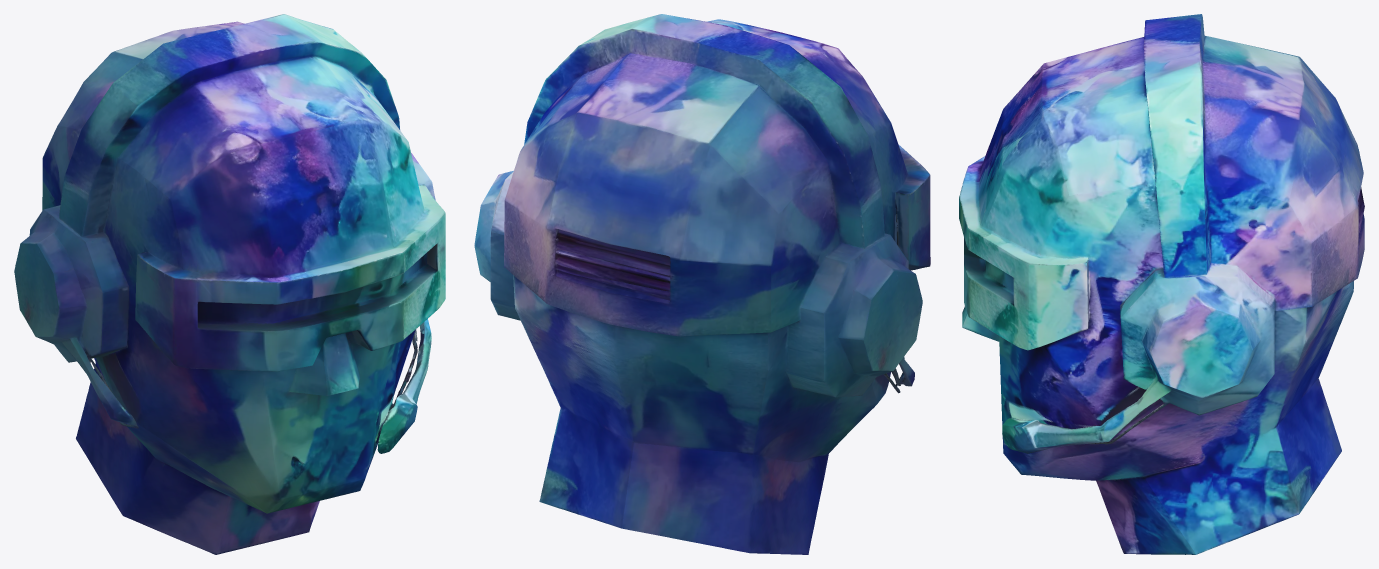
Rendered from base_basic_shaded_optimized.glb.
3 views of the same model, side by side, from view 1: azimuth 30°, elevation 25°; view 2: azimuth 150°, elevation 25°; view 3: azimuth 270°, elevation 25° (orthographic). The views are drawn at different scales.
Visible parts, largest first — view 1: model; view 2: model; view 3: model.
Boxes of the visible parts, box(x1,y1,x2,y2) form: model: box(14, 14, 445, 554); model: box(474, 14, 930, 554); model: box(959, 14, 1364, 554).
Bounding box in the file's own units: 1.55 × 1.9 × 1.43.
1 material, 1 textured.
